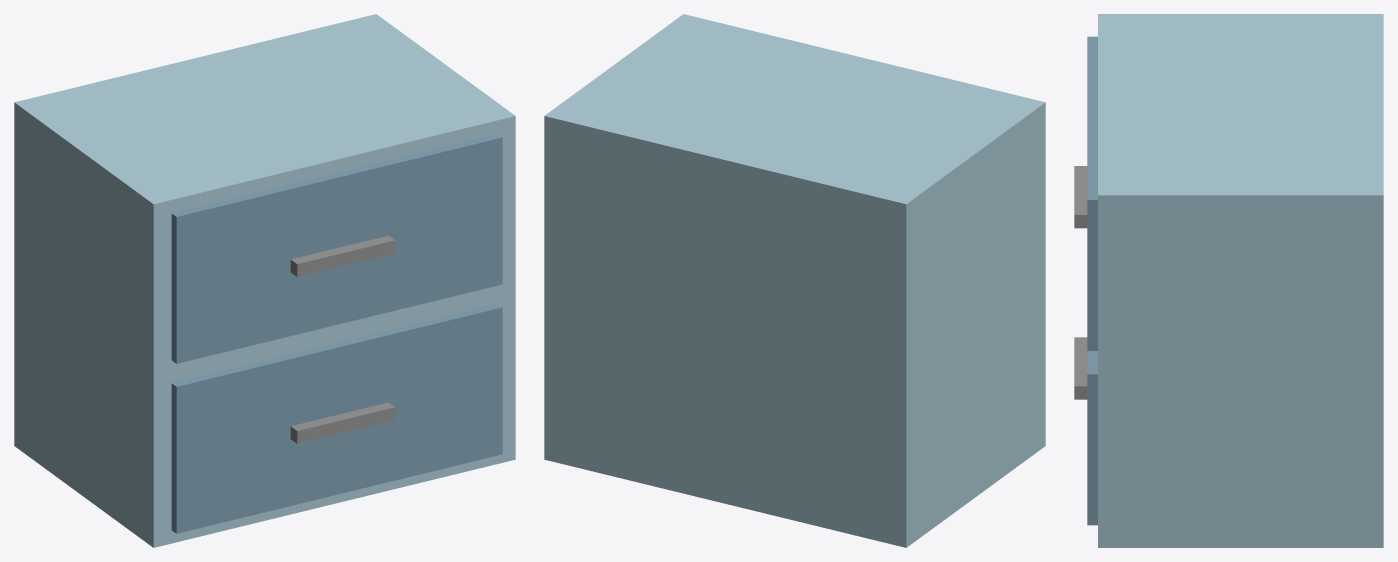
The model's file is Nightstand.fbx.
The picture shows the model from 3 angles, left to right: view 1: azimuth 30°, elevation 25°; view 2: azimuth 150°, elevation 25°; view 3: azimuth 270°, elevation 25°; orthographic projection. The views are drawn at different scales.
Parts seen in each view (by area): view 1: Nightstand; view 2: Nightstand; view 3: Nightstand.
Boxes of the visible parts, bbox=[...] form: Nightstand: bbox=[14, 14, 515, 547]; Nightstand: bbox=[544, 14, 1045, 547]; Nightstand: bbox=[1074, 14, 1383, 547].
Size of the model in its own units: 88.21 by 63.64 by 80.
